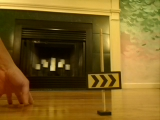right: (86, 72, 121, 89)
